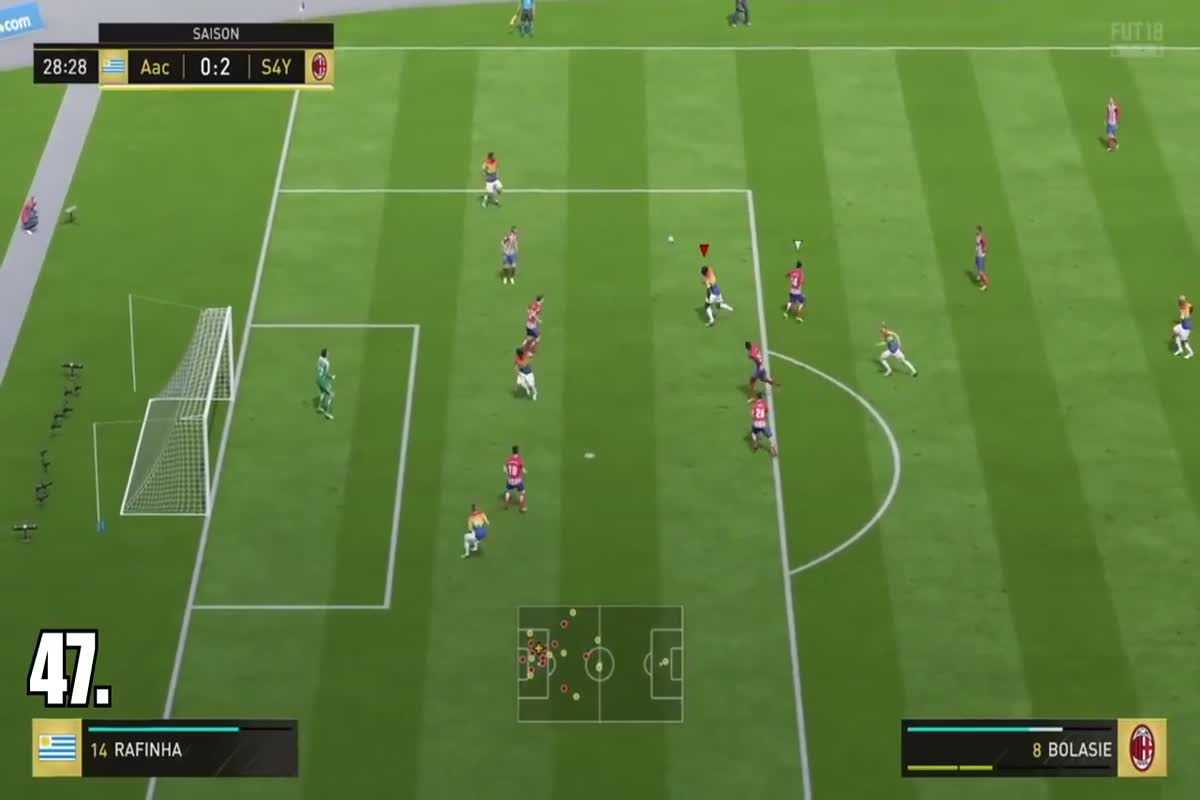ball: (657, 227, 688, 250)
